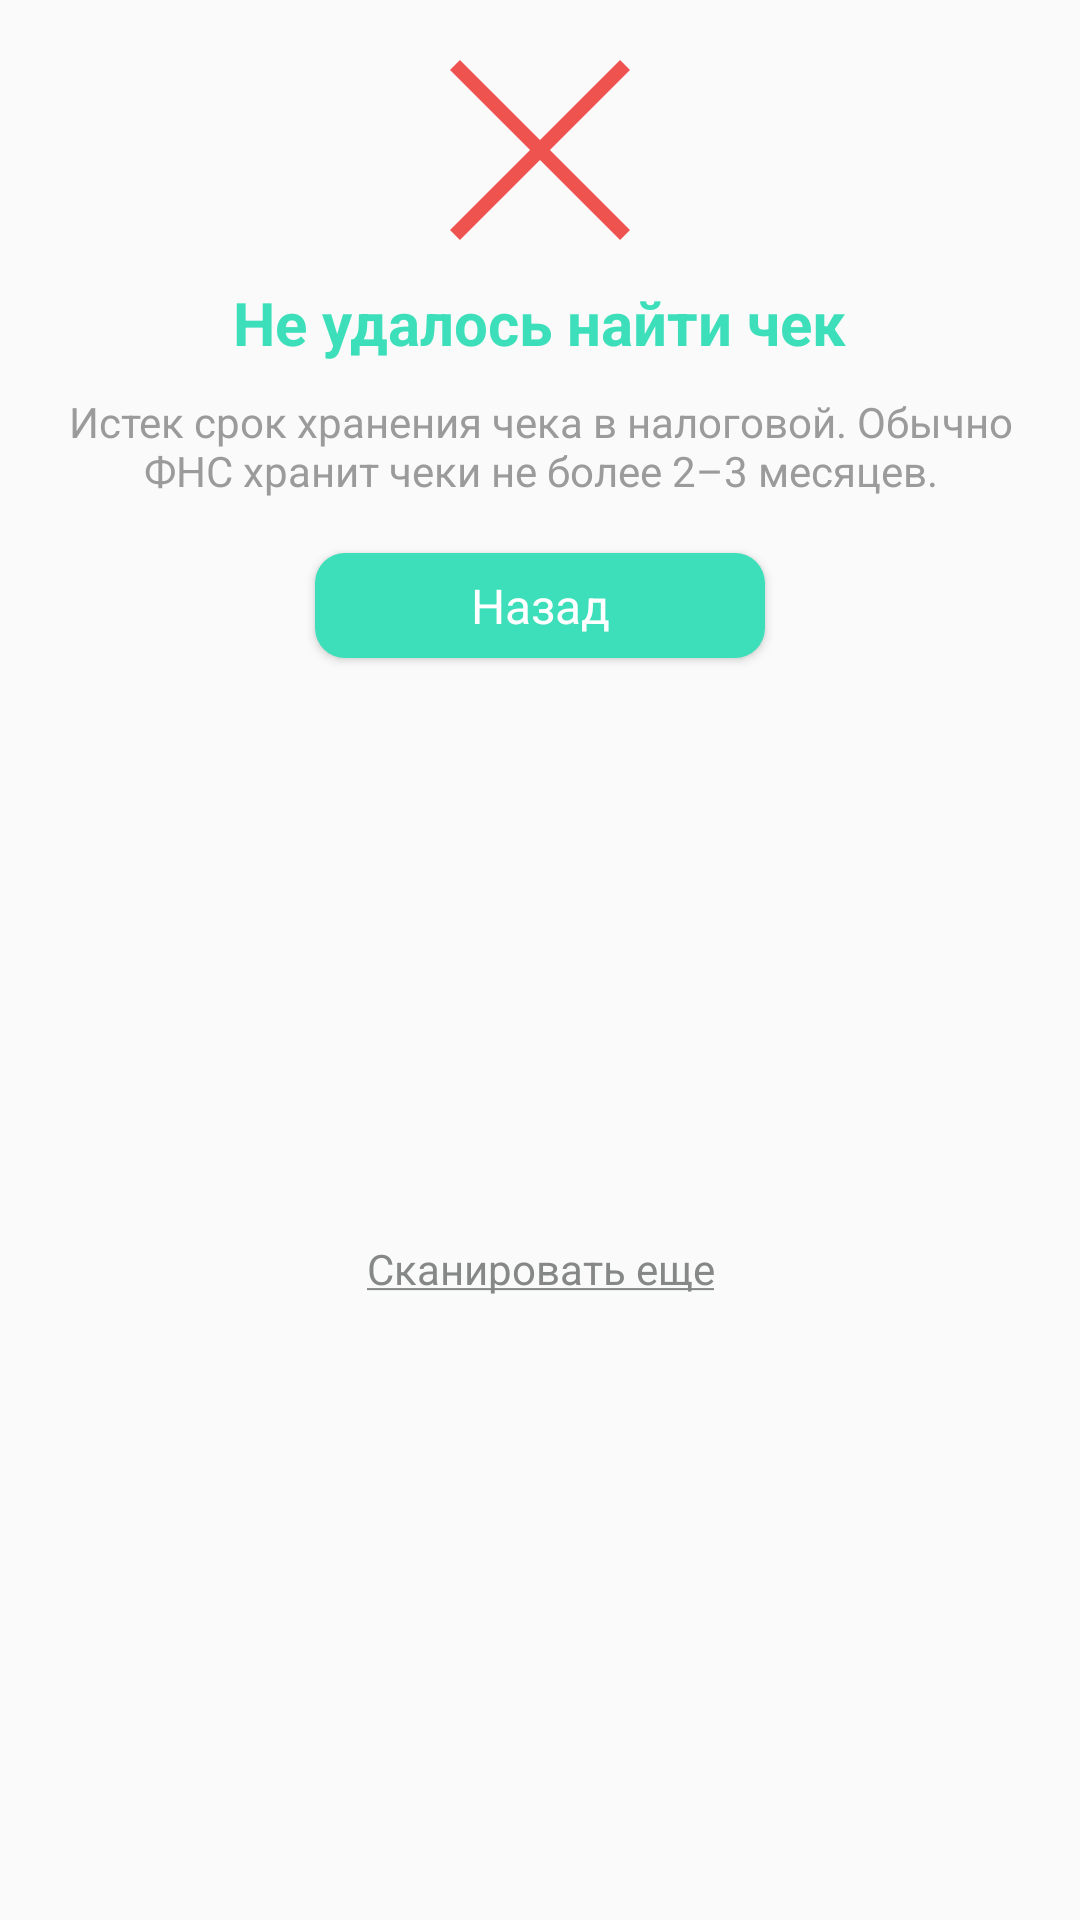

Point at icon controls on the screen. Image size 1080px×1920px, points as (x=x, y=y).
fail: (x=540, y=150)
